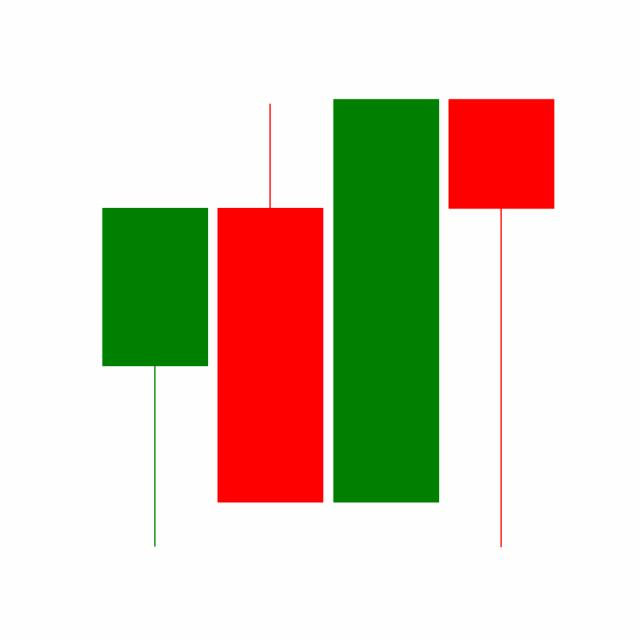Marubozu: (328, 95, 444, 507)
